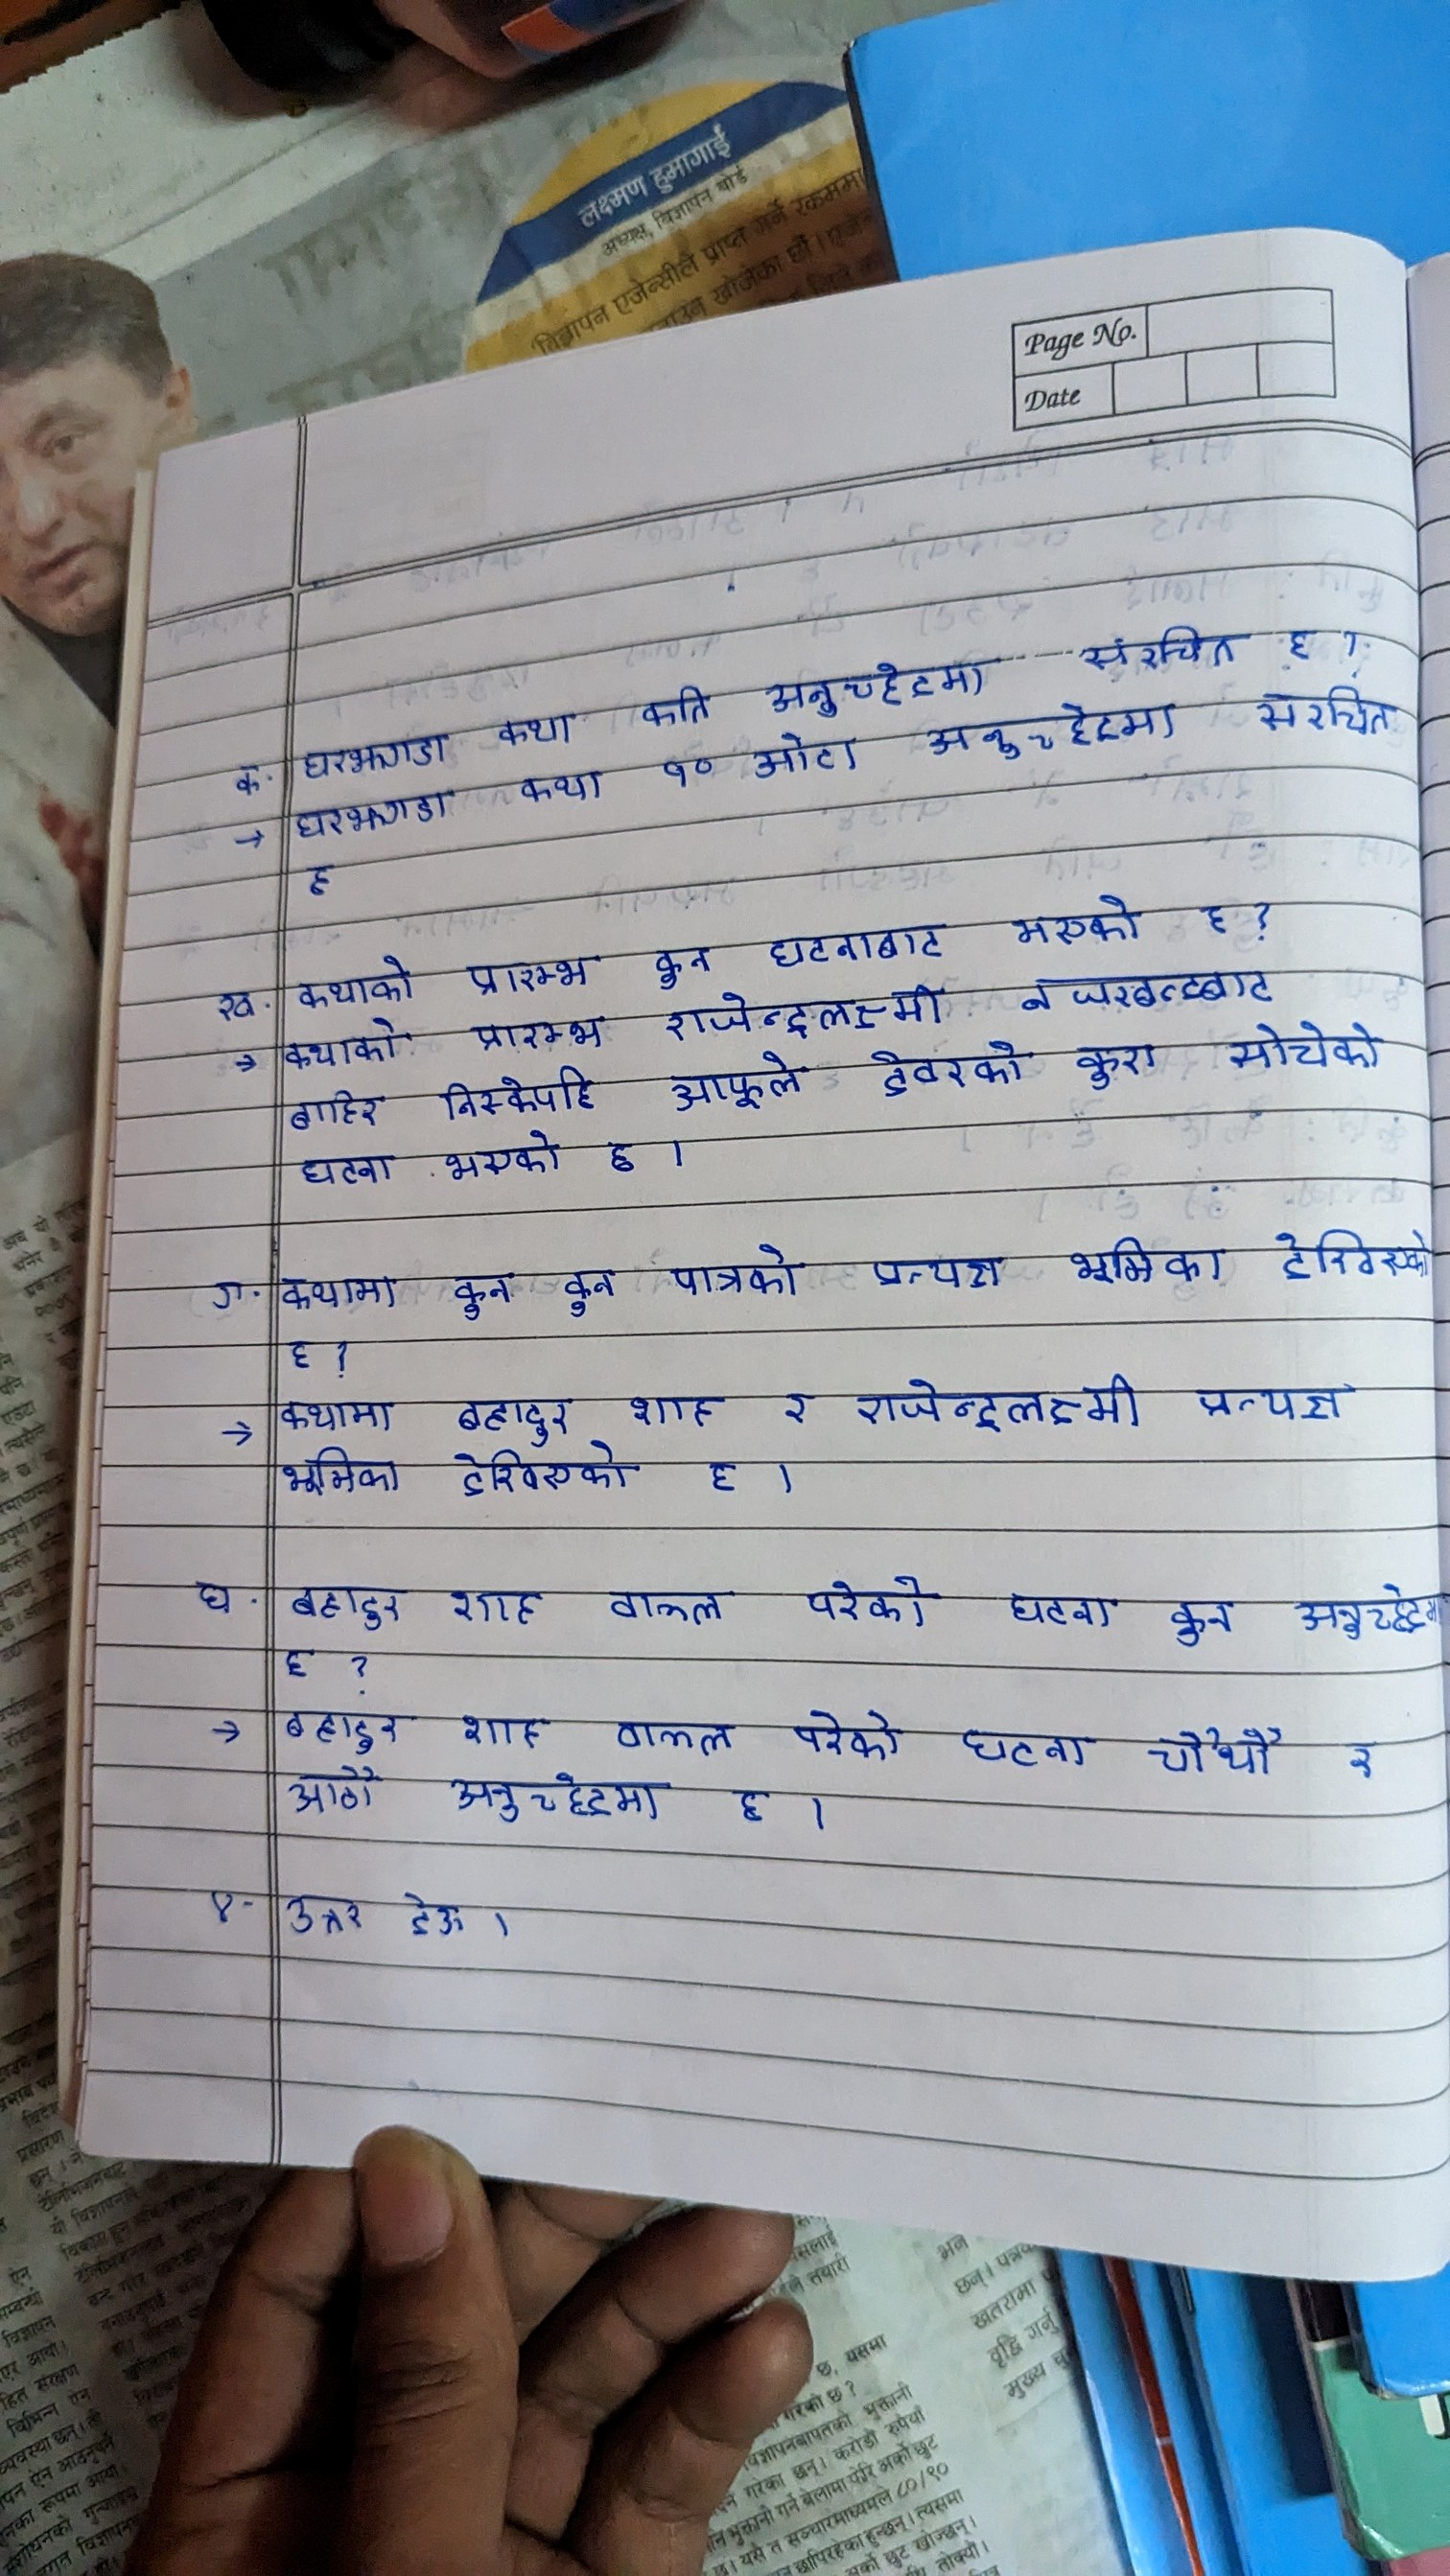text: (852, 1366, 1147, 1438), (1013, 966, 1282, 1017), (1268, 1208, 1438, 1288), (919, 711, 1199, 759), (439, 1773, 680, 1828), (1204, 1021, 1397, 1085), (747, 656, 986, 708), (659, 998, 951, 1039), (1055, 1226, 1239, 1288), (655, 1233, 807, 1307), (947, 1711, 1096, 1783), (443, 1445, 636, 1500), (864, 1040, 1032, 1100), (756, 913, 949, 964), (791, 1573, 937, 1640), (1137, 1716, 1282, 1780), (1064, 621, 1250, 671), (1190, 1371, 1356, 1426), (604, 1566, 738, 1633), (1004, 886, 1151, 947), (657, 1051, 813, 1108), (1252, 683, 1395, 743), (428, 1070, 607, 1118), (287, 952, 428, 1012), (988, 1583, 1133, 1642), (1282, 1585, 1450, 1635), (276, 1700, 409, 1759), (871, 1244, 1018, 1295), (430, 1129, 567, 1184), (289, 729, 455, 773), (283, 1576, 409, 1635), (786, 1706, 914, 1762), (443, 1385, 570, 1440), (455, 948, 600, 996), (609, 1707, 742, 1759), (278, 1019, 405, 1072), (460, 1012, 618, 1054), (278, 1445, 405, 1495), (450, 1695, 545, 1760), (744, 734, 869, 784), (294, 793, 448, 832), (510, 761, 621, 814), (274, 1762, 381, 1817), (282, 1085, 386, 1139), (441, 1258, 517, 1332), (443, 1573, 540, 1629), (278, 1394, 407, 1437), (278, 1267, 404, 1309), (1064, 1037, 1158, 1092), (397, 1882, 469, 1951), (283, 1891, 363, 1950), (620, 1385, 728, 1428), (627, 678, 719, 727), (556, 1256, 623, 1323), (482, 709, 588, 752), (1186, 881, 1248, 954), (179, 1566, 244, 1629), (290, 1154, 411, 1187), (1167, 1589, 1234, 1647), (641, 932, 712, 987), (653, 747, 722, 800), (200, 971, 271, 1023), (763, 1384, 830, 1437), (726, 1782, 786, 1836), (294, 865, 372, 901), (204, 1258, 257, 1309), (205, 1881, 255, 1936), (595, 1136, 650, 1178), (1347, 1737, 1390, 1790), (696, 1454, 742, 1499), (1280, 623, 1330, 662), (223, 766, 273, 803), (273, 1341, 328, 1371), (269, 1649, 319, 1679)
